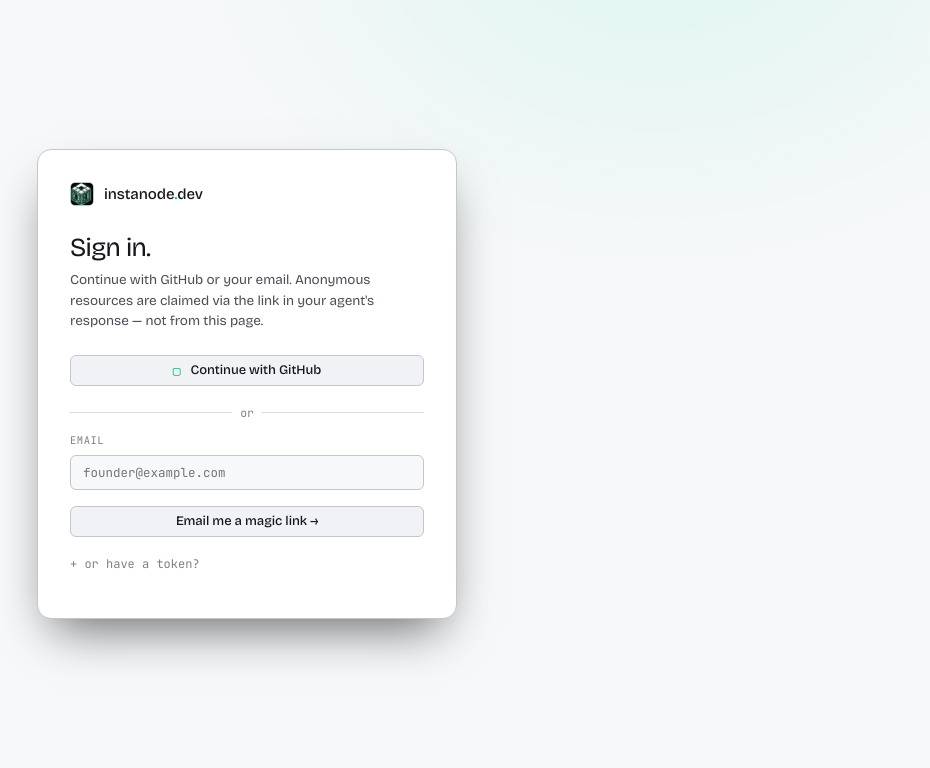
Test: LoginPage › shows a 401 rejection message and clears the token
Click the button with test id "toggle-token-form" at (135, 564), box [70,556,424,572]
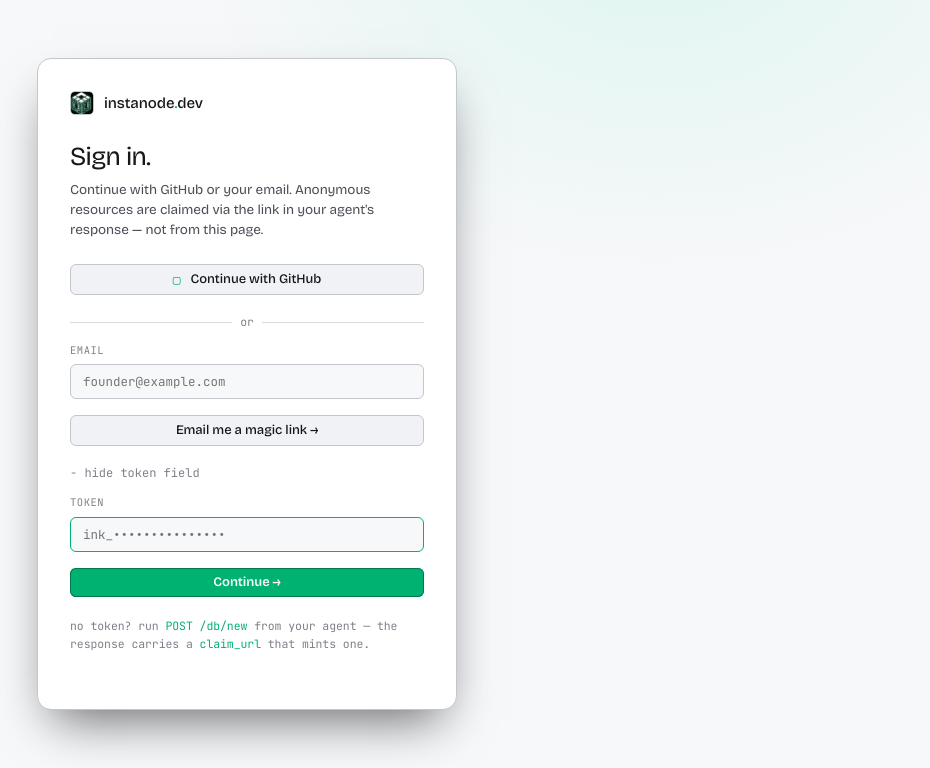
Type "ink_bad" into the password field with test id "token-input" at (247, 535), box [70,517,424,552]
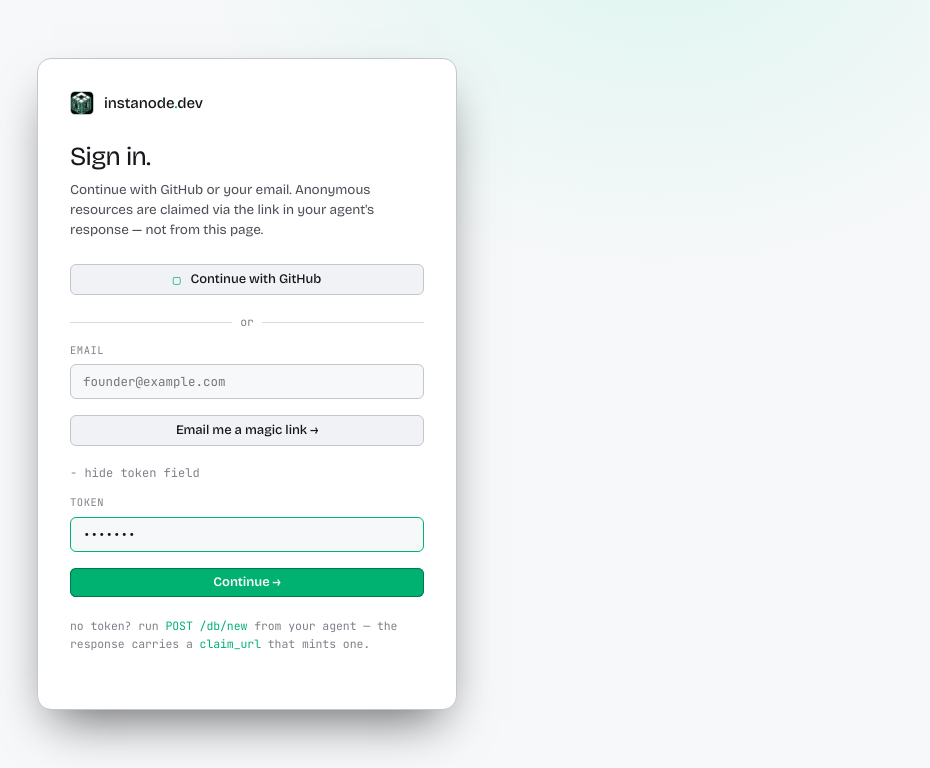
Click the button with test id "login-submit" at (247, 583), box [70,568,424,597]
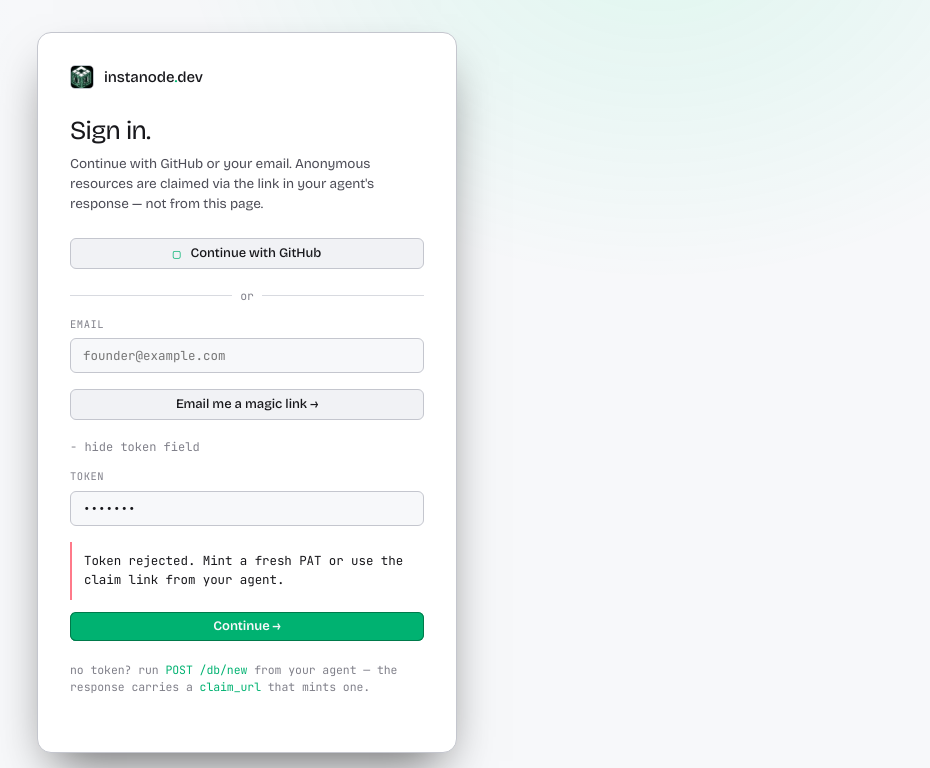
Now the message with test id "login-error" shows "Token rejected", box [84,552,403,588]
